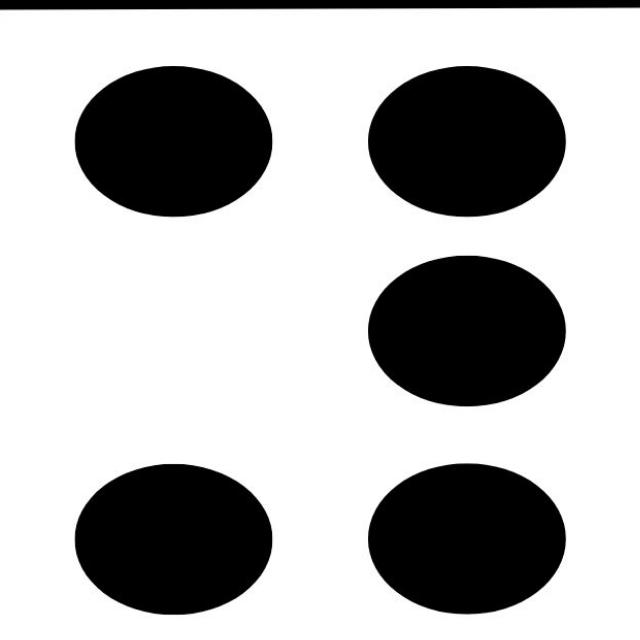y: (73, 60, 570, 616)
